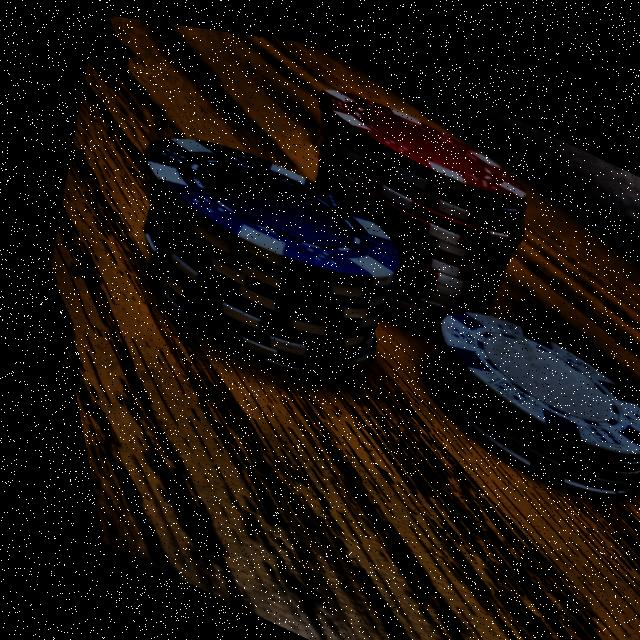Chip: (57, 85, 456, 446), (235, 26, 584, 368), (361, 247, 640, 535)
